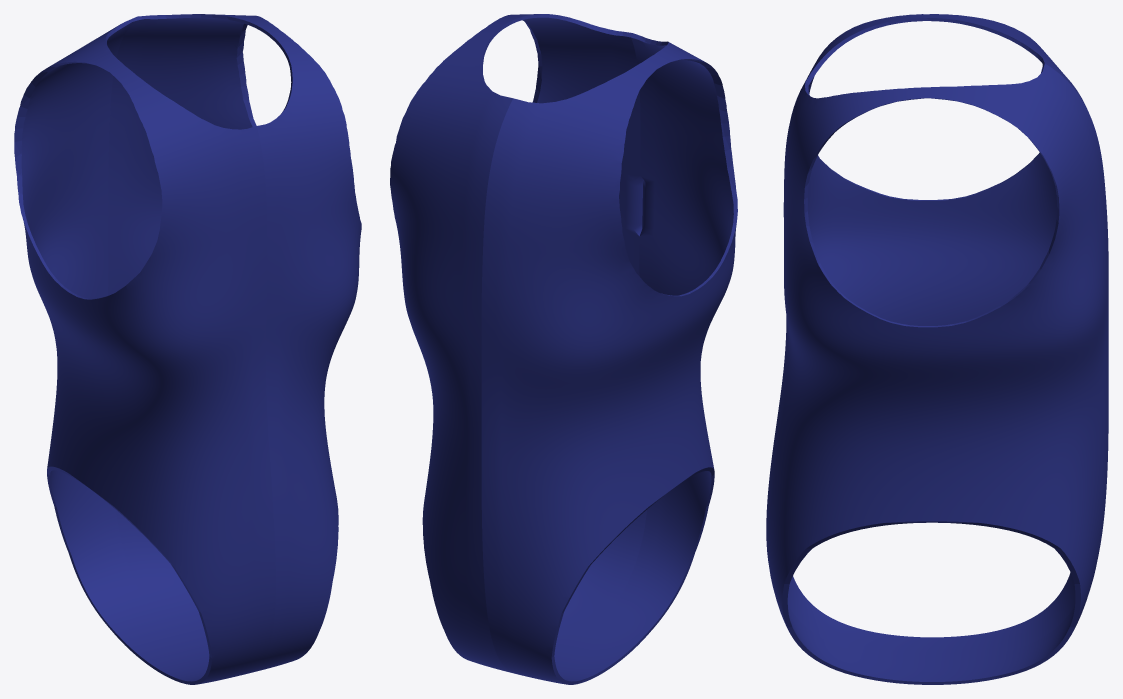
Rendered from Entero-draco.glb.
3 views of the same model, side by side, from view 1: azimuth 30°, elevation 25°; view 2: azimuth 150°, elevation 25°; view 3: azimuth 270°, elevation 25° (orthographic).
Parts seen in each view (by area): view 1: Cube; view 2: Cube; view 3: Cube.
Part boxes in pixels (<box>): Cube: <box>14,14,361,684</box>; Cube: <box>390,14,737,684</box>; Cube: <box>766,14,1108,684</box>.
Size of the model in its own units: 0.6116 by 1.37 by 0.6946.
